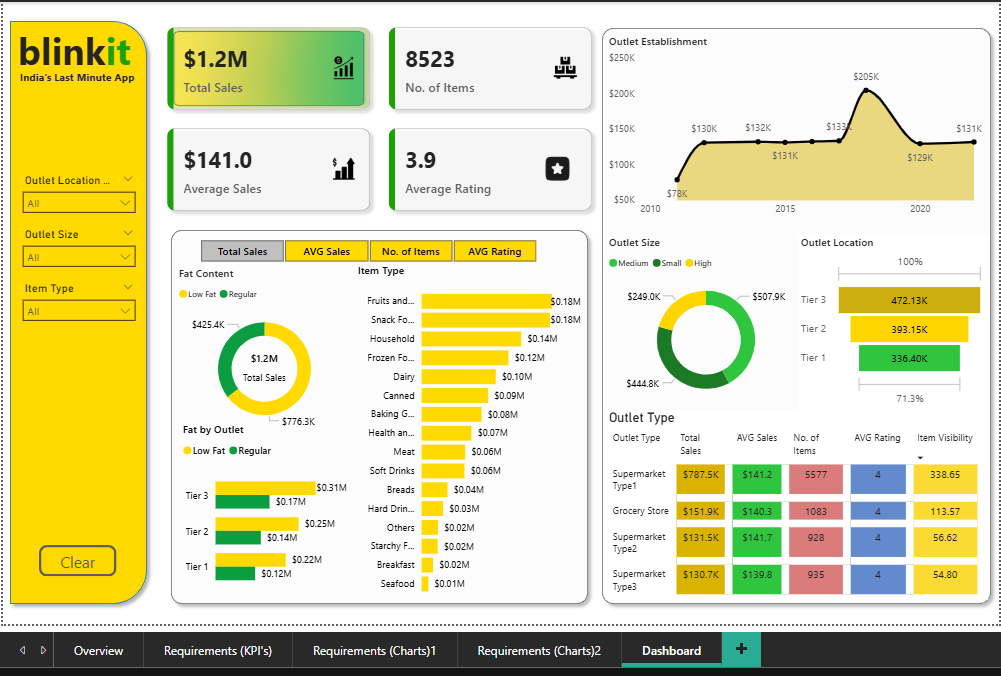

The page's visual inventory and layout, read from the dashboard file:
{"tool":"powerbi","page":{"name":"Dashboard","canvas":[1280,800],"ordinal":4},"visuals":[{"type":"cardVisual","fields":{"Data":["BlinkIT Grocery Data.total sales","BlinkIT Grocery Data.no. of items","BlinkIT Grocery Data.average sales","BlinkIT Grocery Data.average rating"]},"box":[194.2,15.4,580.1,270.1],"z":0},{"type":"shape","box":[0,15.4,194.2,767.8],"z":1000},{"type":"textbox","box":[14.1,24.4,167.2,74.6],"z":2000},{"type":"shape","box":[207.1,284.2,554.3,499],"z":3000},{"type":"slicer","fields":{"Values":["parameter.parameter"]},"box":[228.9,299.7,481,39.9],"z":4000},{"type":"donutChart","title":" Fat Content","fields":{"Y":["BlinkIT Grocery Data.Total Sales"],"Category":["BlinkIT Grocery Data.Item Fat Content"]},"box":[221.2,339.5,230.2,219.9],"z":5000},{"type":"card","fields":{"Values":["BlinkIT Grocery Data.Total Sales"]},"box":[299.7,433.4,73.3,70.7],"z":6000},{"type":"clusteredBarChart","title":"Fat by Outlet","fields":{"Y":["BlinkIT Grocery Data.Total Sales"],"Category":["BlinkIT Grocery Data.Outlet Location Type"],"Series":["BlinkIT Grocery Data.Item Fat Content"]},"box":[226.4,540.2,221.2,228.9],"z":7000},{"type":"barChart","title":"Item Type","fields":{"Y":["BlinkIT Grocery Data.Total Sales"],"Category":["BlinkIT Grocery Data.Item Type"]},"box":[451.4,335.7,297.1,437.3],"z":8000},{"type":"shape","box":[761.4,24.4,518.3,758.8],"z":9000},{"type":"lineChart","title":" Outlet Establishment ","fields":{"Category":["BlinkIT Grocery Data.Outlet Establishment Year"],"Y":["BlinkIT Grocery Data.Total Sales"]},"box":[774.3,41.2,492.6,243.1],"z":10000},{"type":"donutChart","title":"Outlet Size","fields":{"Y":["BlinkIT Grocery Data.Total Sales"],"Category":["BlinkIT Grocery Data.Outlet Size"]},"box":[774.3,299.7,259.8,225.1],"z":11000},{"type":"funnel","title":"Outlet Location ","fields":{"Y":["Sum(BlinkIT Grocery Data.Sales)"],"Category":["BlinkIT Grocery Data.Outlet Location Type"]},"box":[1021.2,299.7,245.7,225.1],"z":12000},{"type":"pivotTable","title":"Outlet Type","fields":{"Rows":["BlinkIT Grocery Data.Outlet Type"],"Values":["BlinkIT Grocery Data.Total Sales","BlinkIT Grocery Data.AVG Sales","BlinkIT Grocery Data.No. of Items","BlinkIT Grocery Data.AVG Rating","Sum(BlinkIT Grocery Data.Item Visibility)"]},"box":[774.3,524.8,492.6,244.4],"z":13000},{"type":"textbox","box":[16.7,82.3,160.8,32.2],"z":14000},{"type":"slicer","fields":{"Values":["BlinkIT Grocery Data.Outlet Location Type"]},"box":[15.4,216.1,164.6,69.5],"z":15000},{"type":"slicer","fields":{"Values":["BlinkIT Grocery Data.Outlet Size"]},"box":[15.4,285.5,164.6,69.5],"z":16000},{"type":"slicer","fields":{"Values":["BlinkIT Grocery Data.Item Type"]},"box":[15.4,355,164.6,69.5],"z":17000},{"type":"actionButton","title":"clear","box":[46.7,698.3,99.5,40.4],"z":18000}]}

Visuals, with their boxes on the page's 1280x800 design canvas (x1, y1, x2, y2). These are canvas units, not pixel positions in the 1001x676 screenshot, which may show the page scaled, cropped or inside an application window:
cardVisual - BlinkIT Grocery Data.total sales x BlinkIT Grocery Data.no. of items: [194,15,774,286]
shape: [0,15,194,783]
textbox: [14,24,181,99]
shape: [207,284,761,783]
slicer - parameter.parameter: [229,300,710,340]
" Fat Content" donutChart: [221,340,451,559]
card - BlinkIT Grocery Data.Total Sales: [300,433,373,504]
"Fat by Outlet" clusteredBarChart: [226,540,448,769]
"Item Type" barChart: [451,336,748,773]
shape: [761,24,1280,783]
" Outlet Establishment " lineChart: [774,41,1267,284]
"Outlet Size" donutChart: [774,300,1034,525]
"Outlet Location " funnel: [1021,300,1267,525]
"Outlet Type" pivotTable: [774,525,1267,769]
textbox: [17,82,178,114]
slicer - BlinkIT Grocery Data.Outlet Location Type: [15,216,180,286]
slicer - BlinkIT Grocery Data.Outlet Size: [15,286,180,355]
slicer - BlinkIT Grocery Data.Item Type: [15,355,180,424]
"clear" actionButton: [47,698,146,739]
